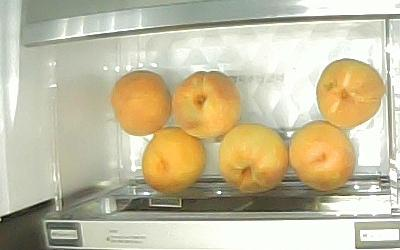peach: (171, 70, 240, 140), (219, 123, 288, 193), (287, 120, 355, 191), (316, 58, 383, 128), (141, 126, 206, 192), (110, 70, 171, 136)
